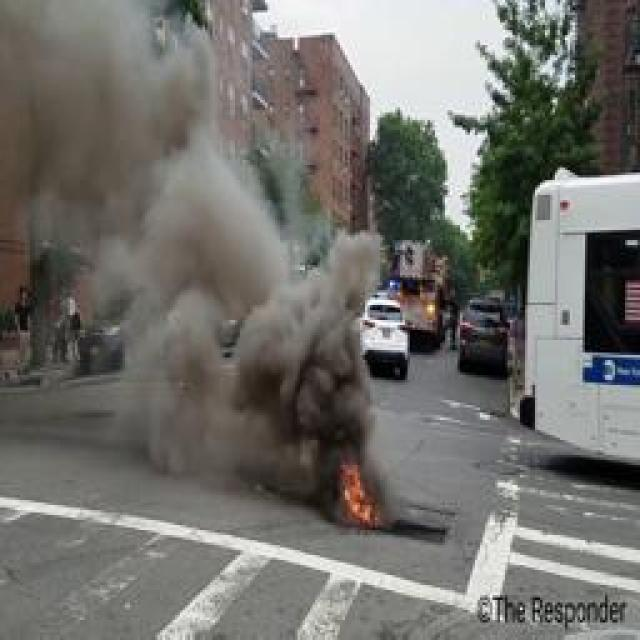Fire: (220, 291, 408, 539)
